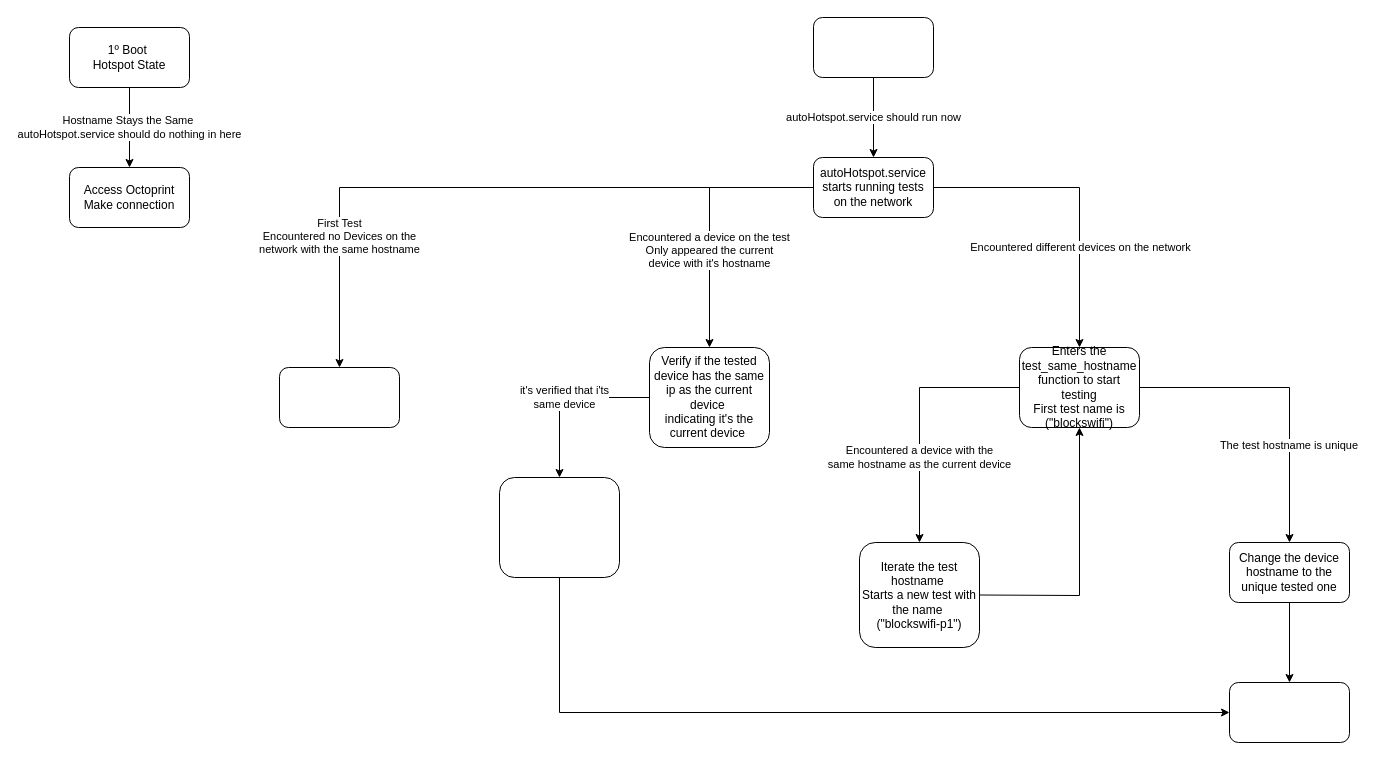
Some shapes in this 1378 by 760 pixel diagram are drawn without their labels. The shapes that lost their labels are listed below. From the top down, each one's centre as x and y in pixels, then its label:
point 873,47: 2º Boot Network Connection Made
point 339,397: Restart the service
point 559,527: Change the hostname from TestHostname ("blocks") ---> to ("blockswifi")
point 1289,712: Disable autoHostname.service
